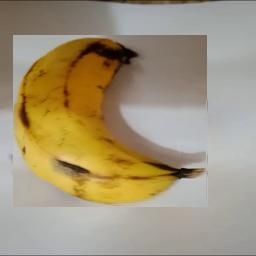Banana Semifresh: (14, 35, 209, 207)
